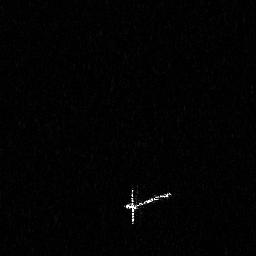ship: (123, 184, 175, 227)
